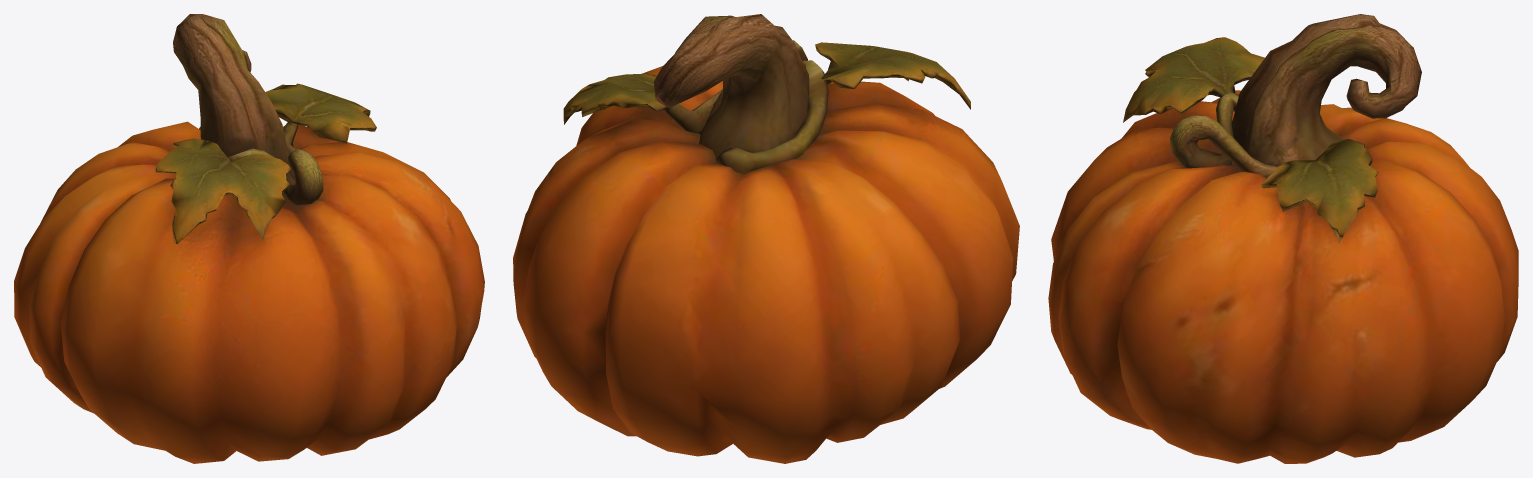
Rendered from n_kabak.glb.
3 views of the same model, side by side, from view 1: azimuth 30°, elevation 25°; view 2: azimuth 150°, elevation 25°; view 3: azimuth 270°, elevation 25° (orthographic). The views are drawn at different scales.
Parts seen in each view (by area): view 1: tripo_node_80f368a4-4d1a-4976-9229-255530da42b3; view 2: tripo_node_80f368a4-4d1a-4976-9229-255530da42b3; view 3: tripo_node_80f368a4-4d1a-4976-9229-255530da42b3.
Boxes of the visible parts, x1,y1,x2,y2 form: tripo_node_80f368a4-4d1a-4976-9229-255530da42b3: (14, 14, 484, 463); tripo_node_80f368a4-4d1a-4976-9229-255530da42b3: (513, 14, 1019, 463); tripo_node_80f368a4-4d1a-4976-9229-255530da42b3: (1048, 14, 1518, 463).
Bounding box in the file's own units: 0.998 × 0.9277 × 0.998.
1 material, 1 textured.
